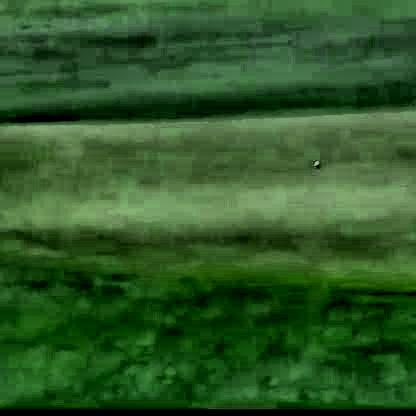golfball: (309, 157, 319, 167)
